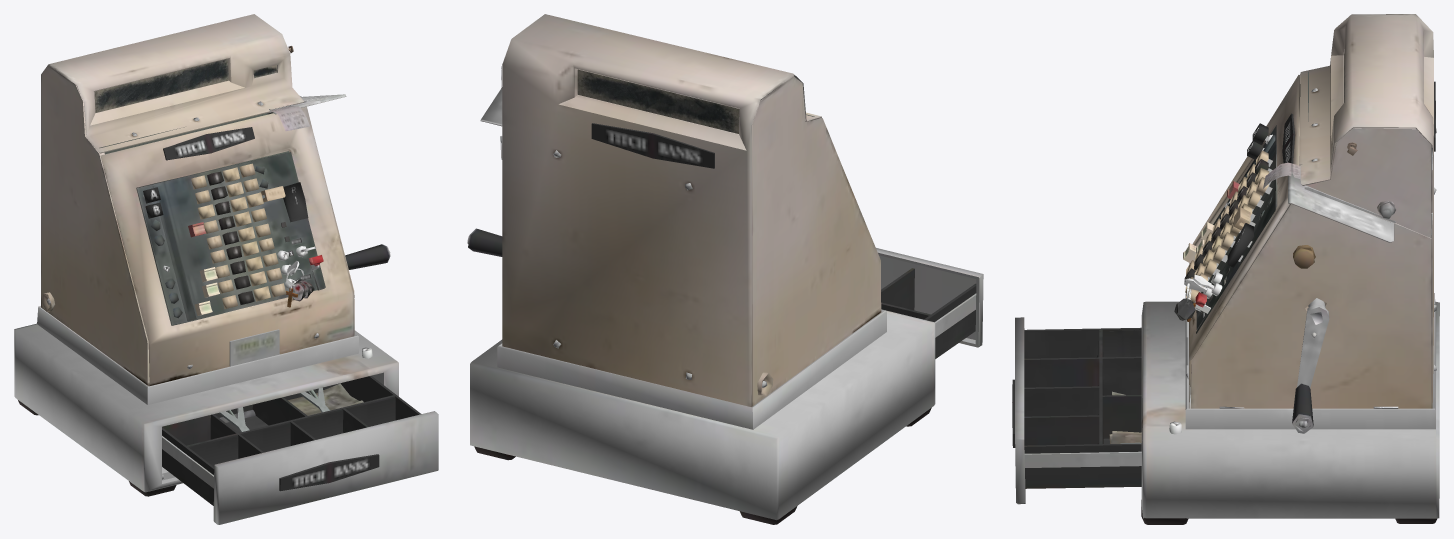
Rendered from CashRegister_01.glb.
The picture shows the model from 3 angles, left to right: view 1: azimuth 30°, elevation 25°; view 2: azimuth 150°, elevation 25°; view 3: azimuth 270°, elevation 25°; orthographic projection. The views are drawn at different scales.
Visible parts, largest first — view 1: CashRegister_01_body; view 2: CashRegister_01_body; view 3: CashRegister_01_body.
Boxes of the visible parts, x1,y1,x2,y2 form: CashRegister_01_body: [14, 14, 438, 524]; CashRegister_01_body: [467, 14, 983, 524]; CashRegister_01_body: [1012, 14, 1439, 524].
Size of the model in its own units: 0.5984 by 0.6197 by 0.6227.
2 materials, 2 textured.
